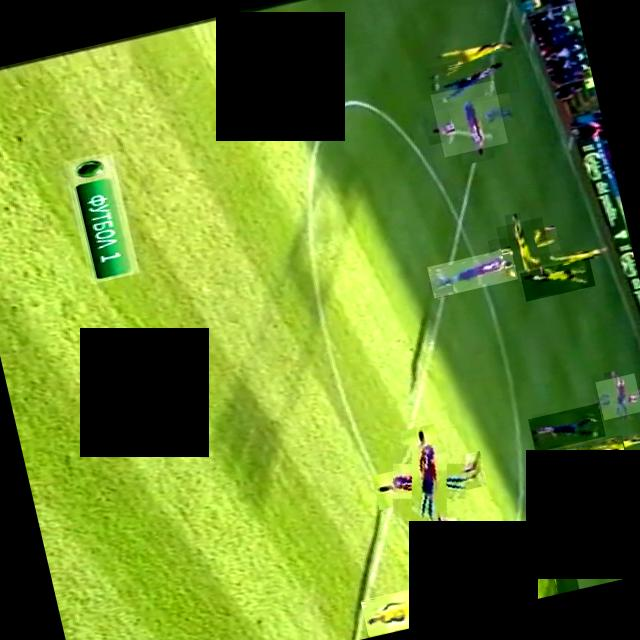soccer-player: (380, 430, 478, 528), (359, 575, 474, 635), (430, 79, 508, 156), (426, 48, 520, 110), (427, 246, 518, 297), (527, 402, 605, 451), (519, 256, 595, 300), (496, 216, 552, 272), (554, 433, 626, 467), (594, 372, 640, 419), (533, 567, 579, 598)
